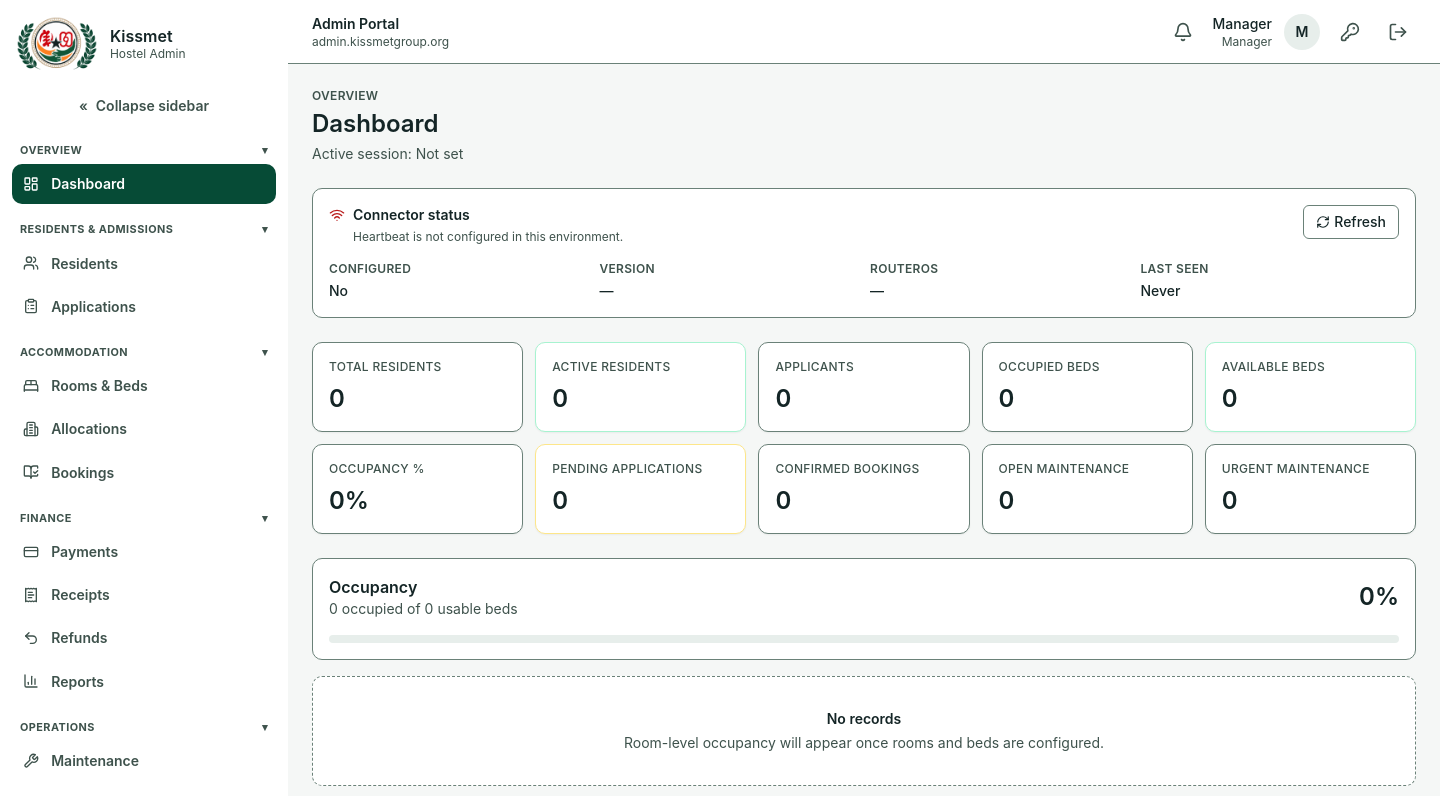
it: ChangePasswordPage › is reachable from the top bar for unflagged staff
Click the link named "Change password" at (1350, 32), box [1340,22,1360,42]
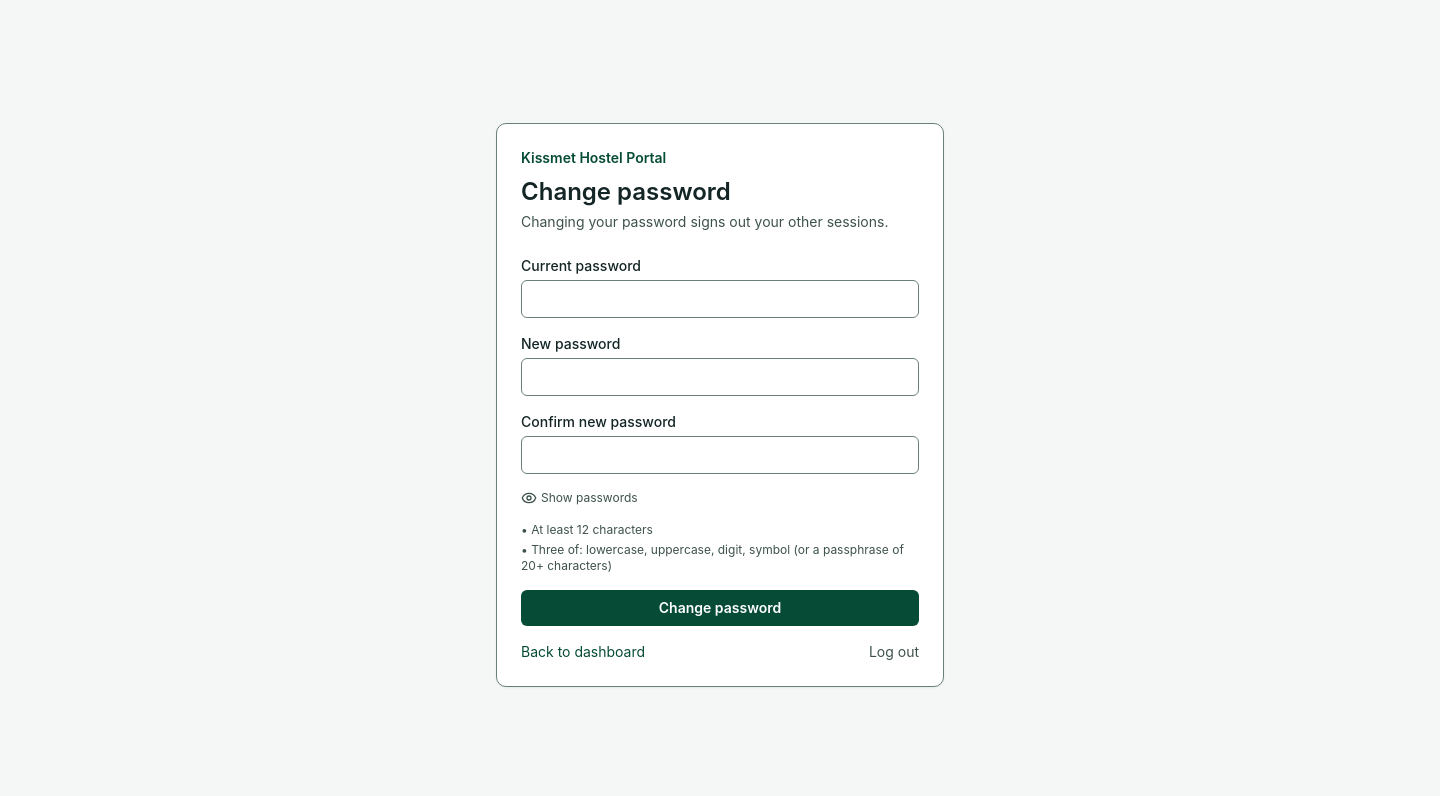
Result: the heading "Change password" is shown at [521,177,731,206]
